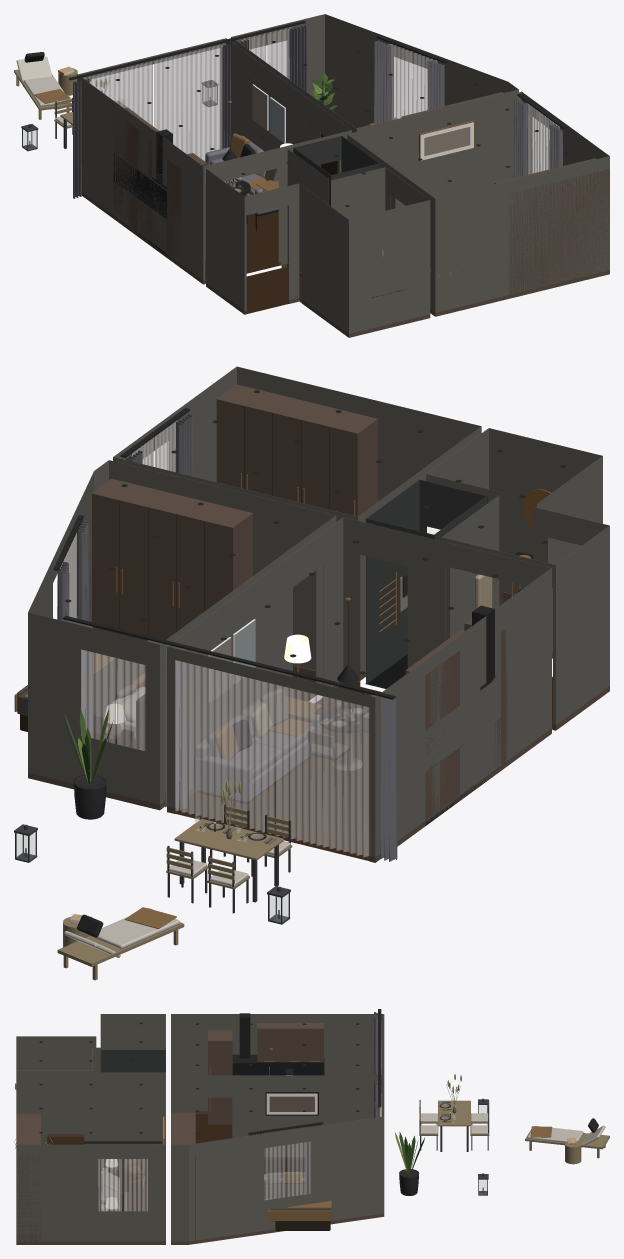
Rendered from unit-0.B-noir.glb.
The picture shows the model from 3 angles, top to bottom: view 1: azimuth 30°, elevation 25°; view 2: azimuth 150°, elevation 25°; view 3: azimuth 270°, elevation 25°; orthographic projection. The views are drawn at different scales.
Visible parts, largest first — view 1: int-wall, int-sheer, int-joineryTall, int-curtain, int-joinery, int-skirting, int-bathWall, int-matteBlack, int-floor, int-hallFloor, int-splash, int-outCushion (+8 smaller); view 2: int-wall, int-joineryTall, int-sheer, int-floor, int-curtain, int-bathWall, int-teak, int-sofa, int-joinery, int-matteBlack, int-outdoor, int-outCushion (+11 smaller); view 3: int-wall, int-sheer, int-joineryTall, int-joinery, int-teak, int-matteBlack, int-bathWall, int-skirting, int-floor, int-headboard, int-outCushion, int-splash (+9 smaller).
Part boxes in pixels (<box>): int-wall: <box>77,14,609,333</box>; int-sheer: <box>84,27,559,174</box>; int-joineryTall: <box>167,92,609,298</box>; int-curtain: <box>73,25,563,198</box>; int-joinery: <box>113,107,166,252</box>; int-skirting: <box>81,192,609,337</box>; int-bathWall: <box>293,135,380,206</box>; int-matteBlack: <box>69,20,566,256</box>; int-floor: <box>205,212,278,283</box>; int-hallFloor: <box>246,267,301,313</box>; int-splash: <box>113,153,166,217</box>; int-outCushion: <box>16,56,72,126</box>; int-wall: <box>28,366,609,857</box>; int-joineryTall: <box>92,384,508,770</box>; int-sheer: <box>57,420,369,857</box>; int-floor: <box>175,671,381,860</box>; int-curtain: <box>57,414,397,861</box>; int-bathWall: <box>365,479,488,684</box>; int-teak: <box>57,806,292,980</box>; int-sofa: <box>193,691,321,801</box>; int-joinery: <box>405,630,500,819</box>; int-matteBlack: <box>53,408,497,826</box>; int-outdoor: <box>14,804,290,924</box>; int-outCushion: <box>64,841,290,957</box>; int-wall: <box>16,1014,384,1241</box>; int-sheer: <box>98,1020,381,1211</box>; int-joineryTall: <box>16,1030,232,1244</box>; int-joinery: <box>257,1023,323,1062</box>; int-teak: <box>419,1100,609,1164</box>; int-matteBlack: <box>84,1009,381,1143</box>; int-bathWall: <box>100,1050,165,1072</box>; int-skirting: <box>16,1111,384,1244</box>; int-floor: <box>118,1114,232,1210</box>; int-headboard: <box>120,1157,330,1230</box>; int-outCushion: <box>420,1113,605,1147</box>; int-splash: <box>232,1058,324,1075</box>.
Size of the model in its own units: 7.77 by 2.82 by 14.48.
